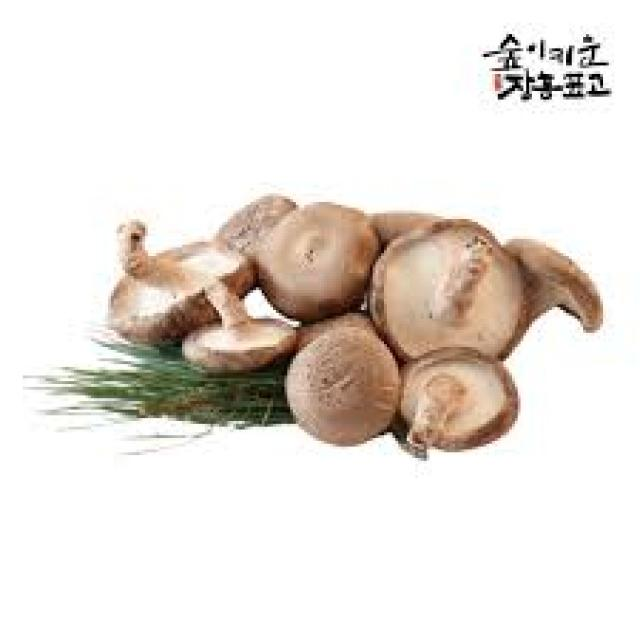Mushroom: (370, 222, 529, 361), (401, 350, 521, 452)
